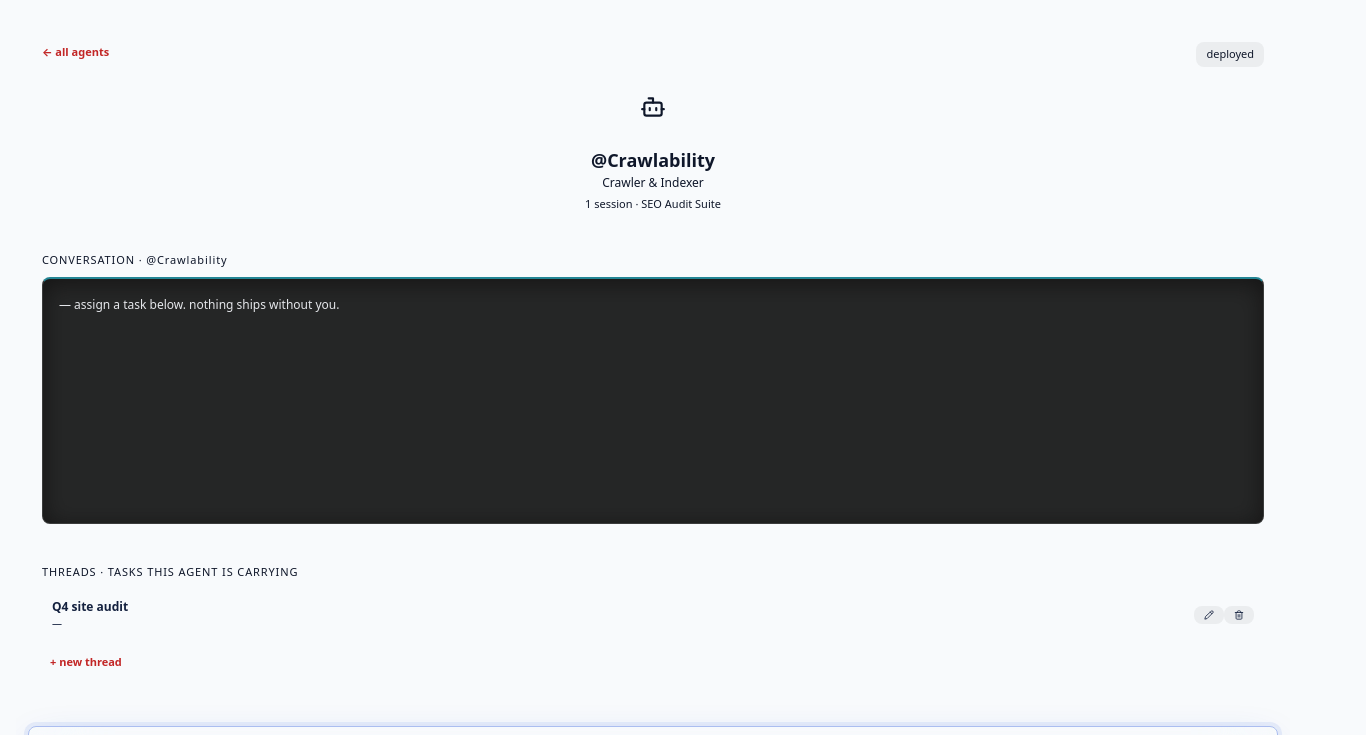
Test: AgentsWindow · execution (v13 exact DOM) › rename edits inline and PATCHes the title
Click the button named "Rename Q4 site audit" at (1209, 615), box [1194,606,1224,624]
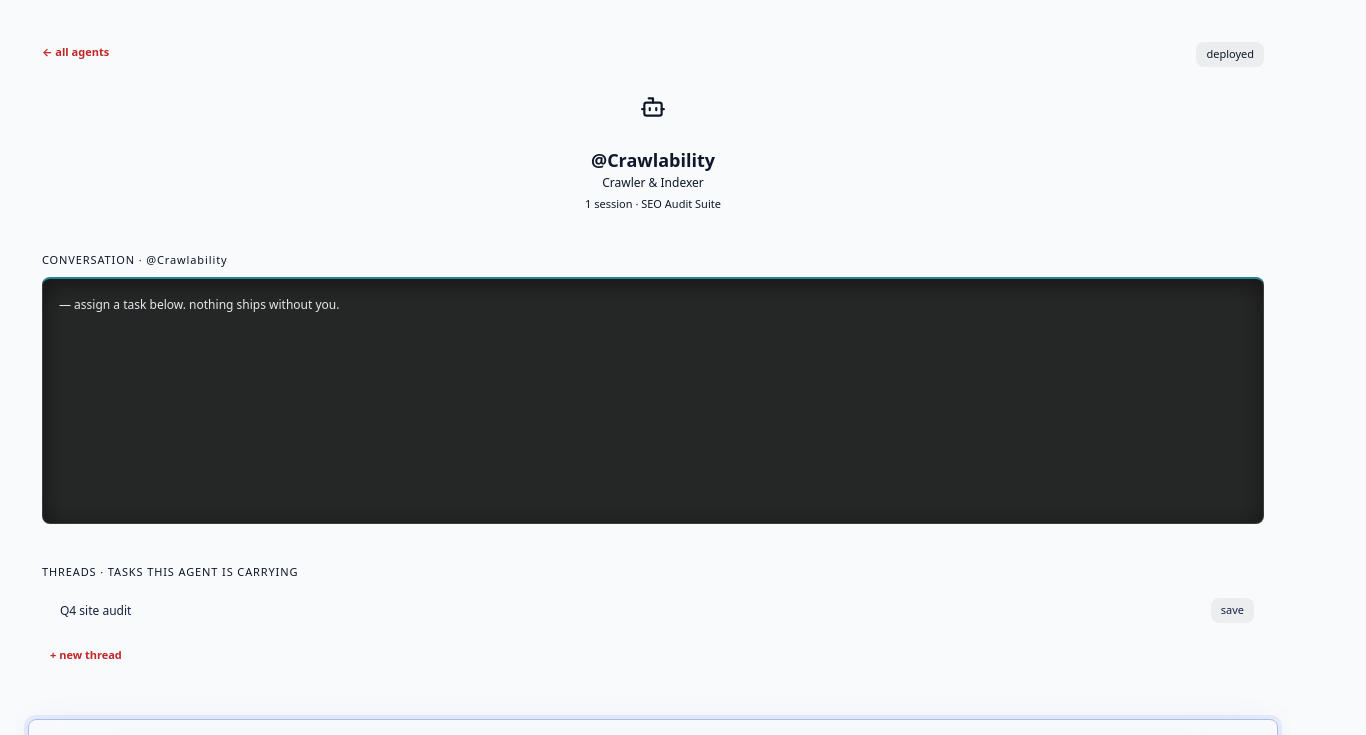
Replace the text in the field named "Rename Q4 site audit" with "October crawl" at (626, 610), box [52,598,1201,624]
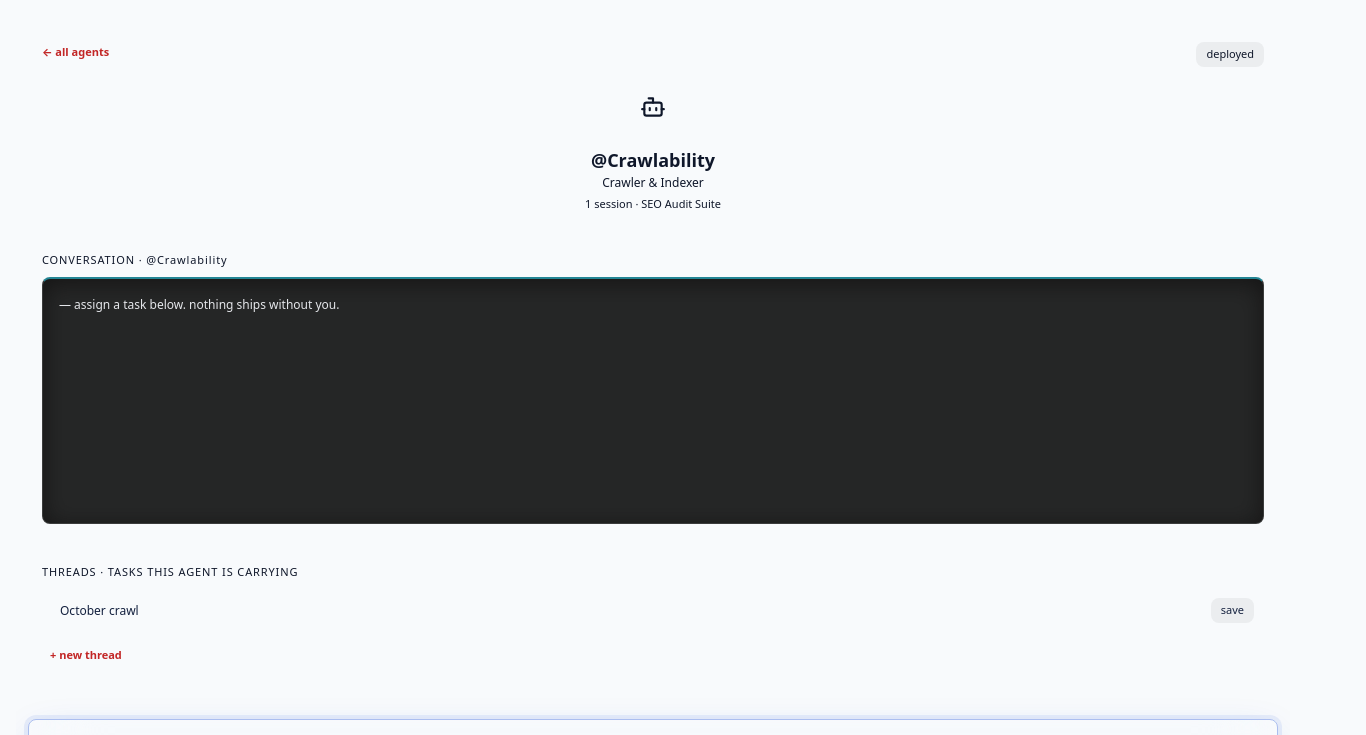
Press Enter in the field named "Rename Q4 site audit", box [52,598,1201,624]
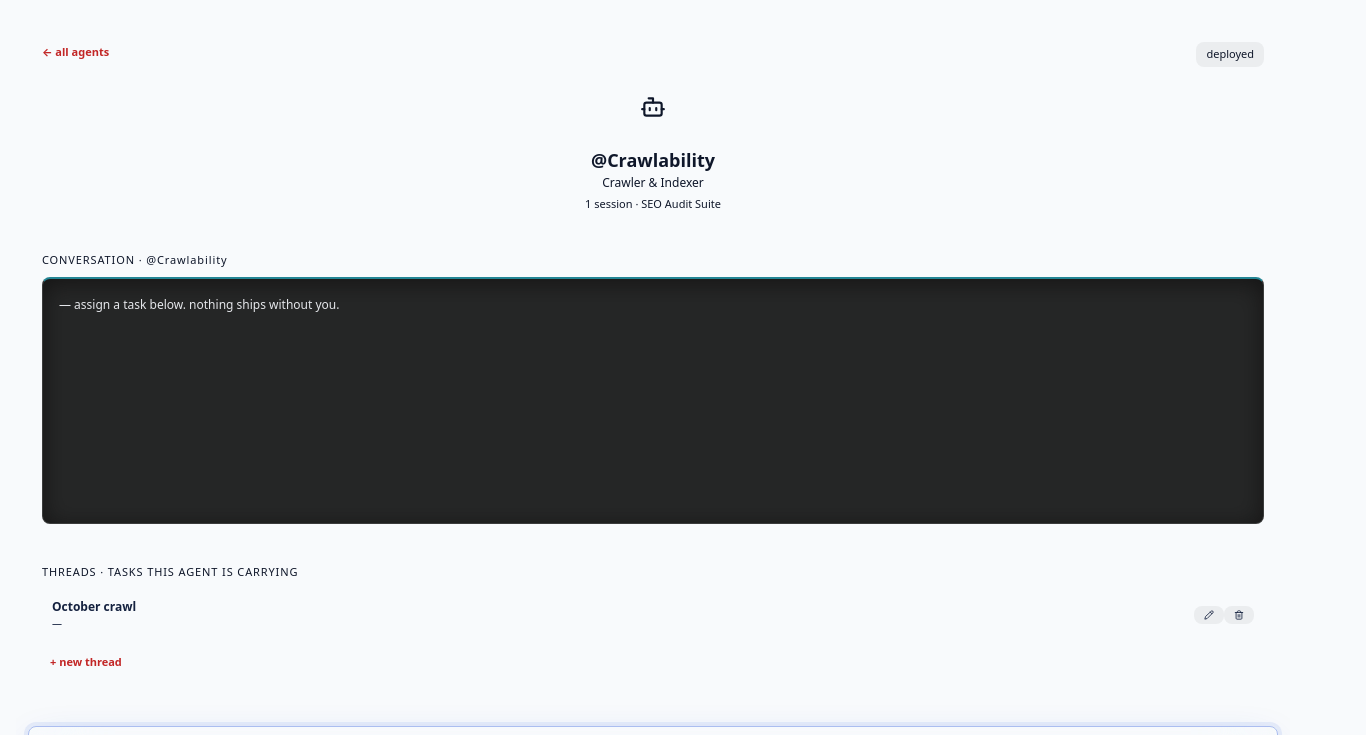
Now the text "October crawl" is shown, box [52,598,136,614]
